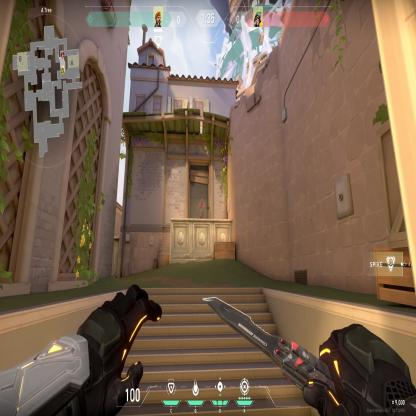enemy: (198, 198, 205, 220)
